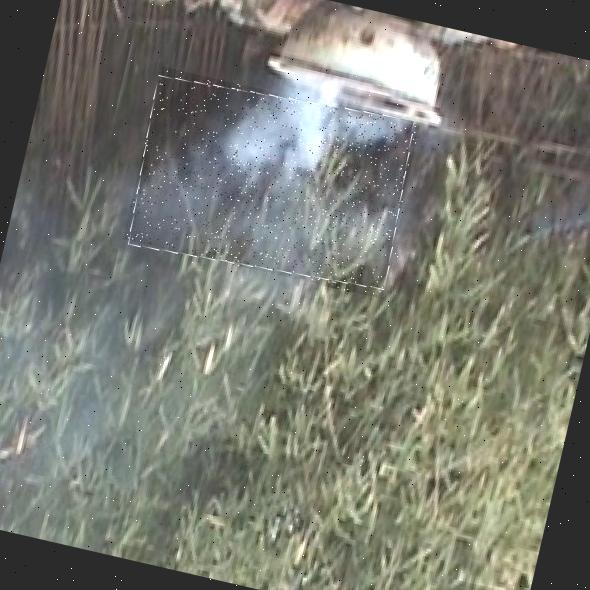smoke: (122, 66, 420, 298)
